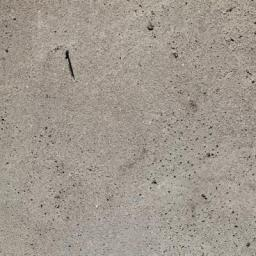FOD: (60, 48, 80, 84)
